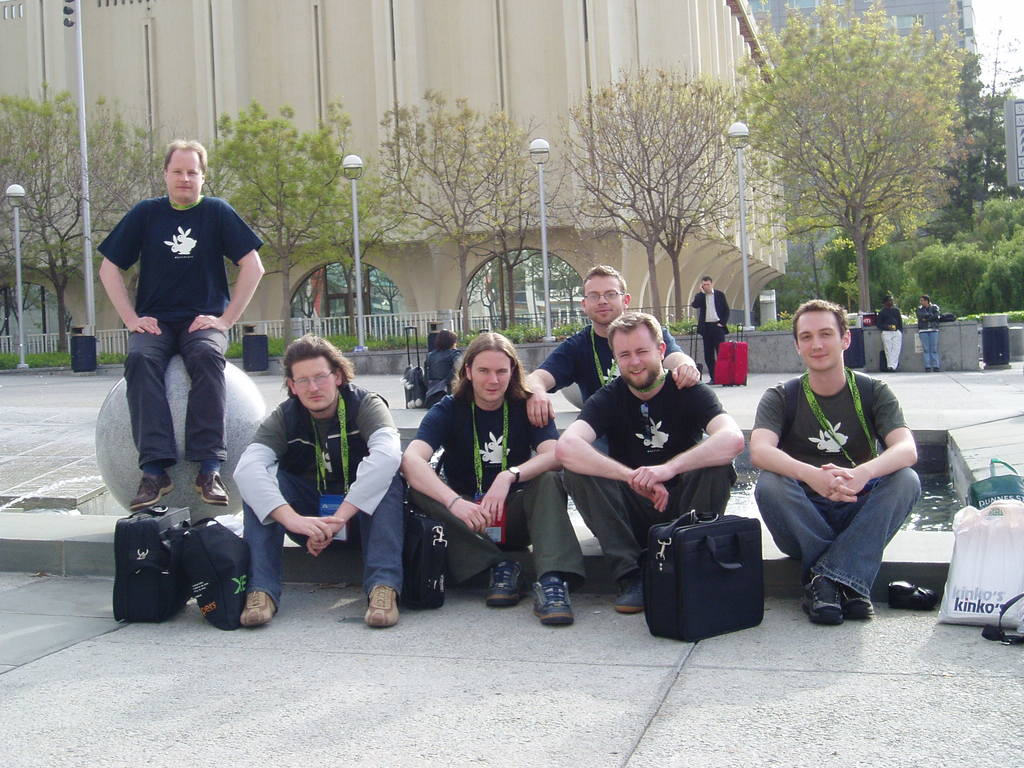Human_hand: (804, 465, 860, 506), (478, 478, 514, 527), (289, 515, 346, 545), (822, 463, 867, 500), (625, 466, 674, 499), (525, 390, 557, 431), (452, 500, 490, 534), (639, 483, 670, 518), (188, 312, 230, 336), (671, 362, 703, 392), (124, 314, 163, 336), (307, 532, 334, 559)
